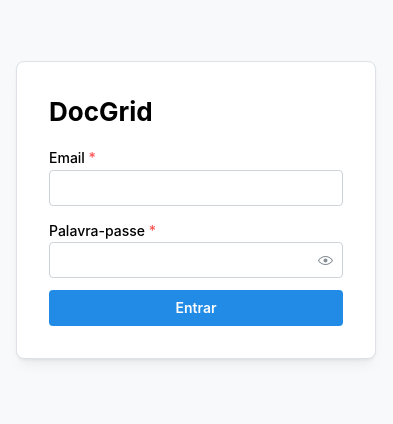
Test: LoginPage › mostra uma mensagem de erro quando as credenciais são inválidas
This screenshot has width=393, height=424.
In the field labelled "Email": (196, 188) [49,170,343,206], type "ana@padaria.pt"
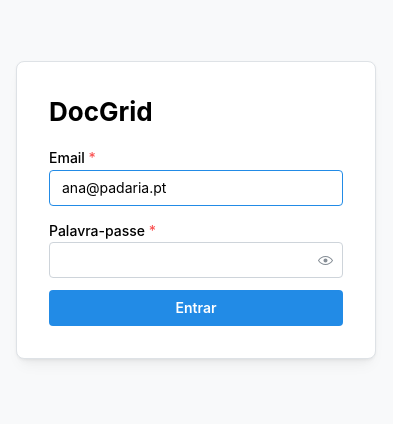
In the password field labelled "Palavra-passe": (196, 260) [50,243,342,277], type "senha-errada"
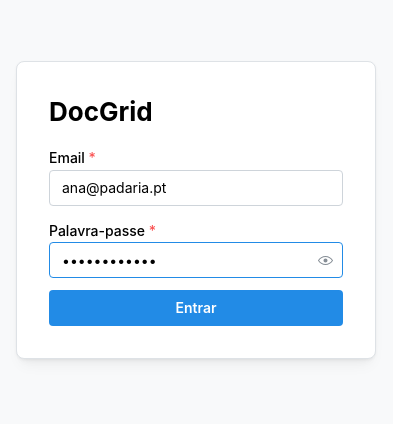
Click the button "Entrar": (196, 308) [49,290,343,326]
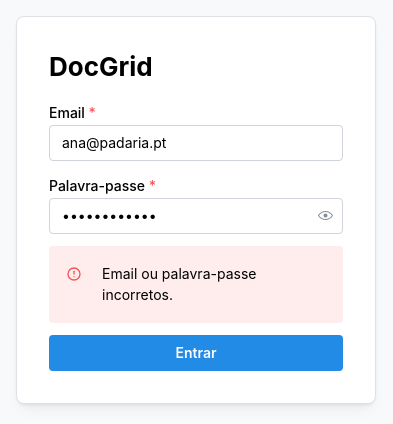
Expected: the text "Email ou palavra-passe incorretos." is shown, [102,265,256,303]
